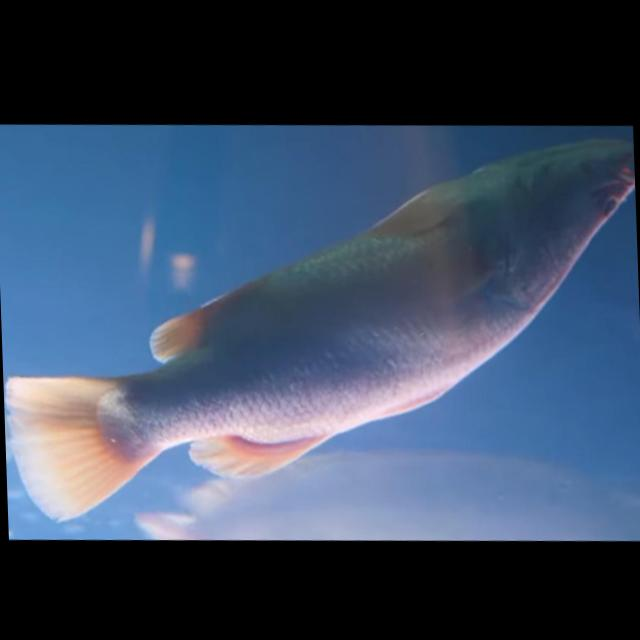Seabass: (0, 113, 640, 547)
